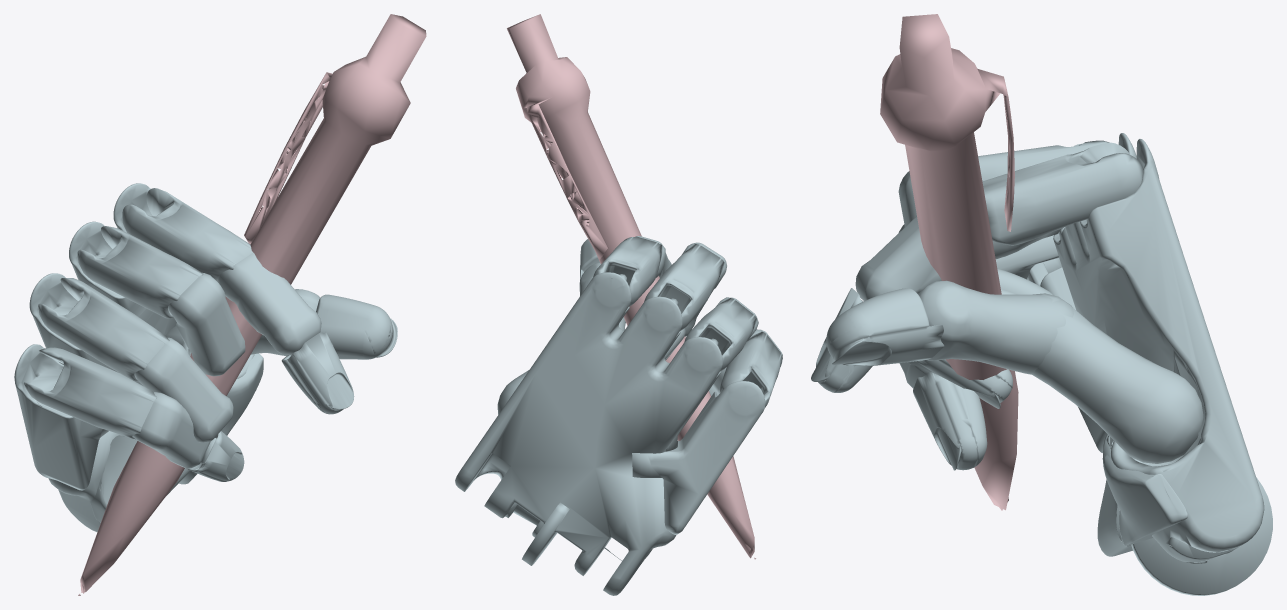
3 renders of one model, left to right at view 1: azimuth 30°, elevation 25°; view 2: azimuth 150°, elevation 25°; view 3: azimuth 270°, elevation 25°, orthographic. The views are drawn at different scales.
Parts seen in each view (by area): view 1: world; view 2: world; view 3: world.
Part boxes in pixels (x1,y1,x2,y2): world: (14, 14, 426, 595); world: (455, 14, 782, 595); world: (811, 14, 1272, 595).
Size of the model in its own units: 0.1397 by 0.2033 by 0.1246.
